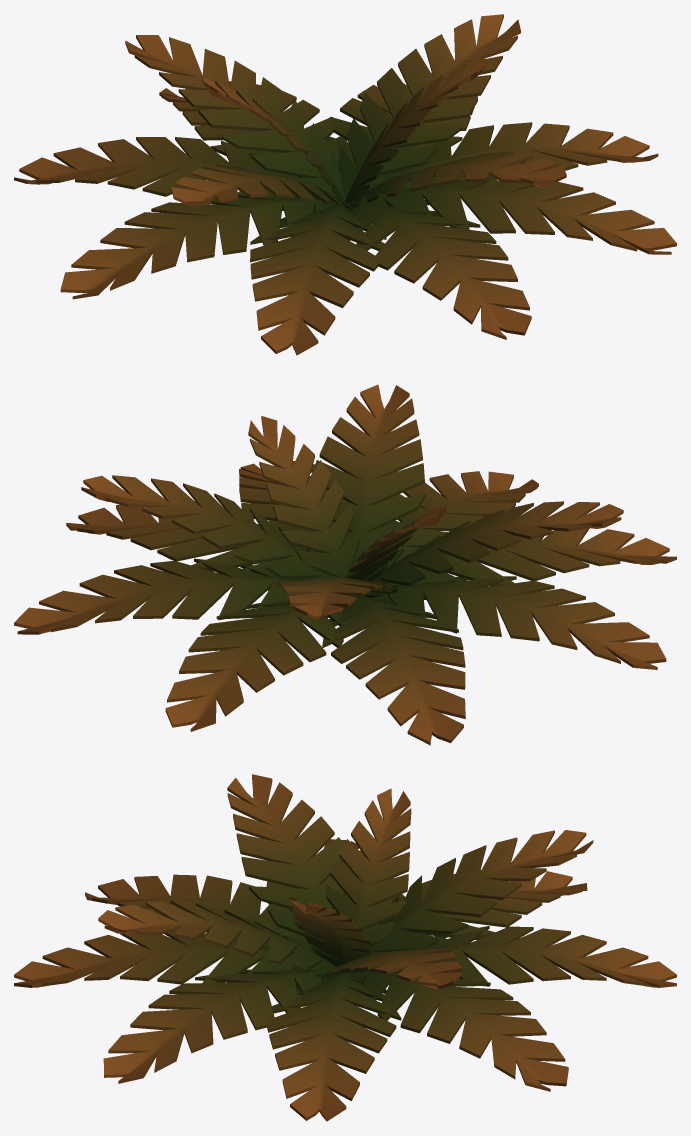
File: fern_f.fbx
The picture shows the model from 3 angles, top to bottom: view 1: azimuth 30°, elevation 25°; view 2: azimuth 150°, elevation 25°; view 3: azimuth 270°, elevation 25°; orthographic projection. The views are drawn at different scales.
Parts seen in each view (by area): view 1: fern; view 2: fern; view 3: fern.
Boxes of the visible parts, box(x1,y1,x2,y2) form: fern: box(14, 14, 676, 355); fern: box(14, 384, 676, 745); fern: box(14, 774, 676, 1121).
Bounding box in the file's own units: 10.8 × 2.56 × 10.82.
